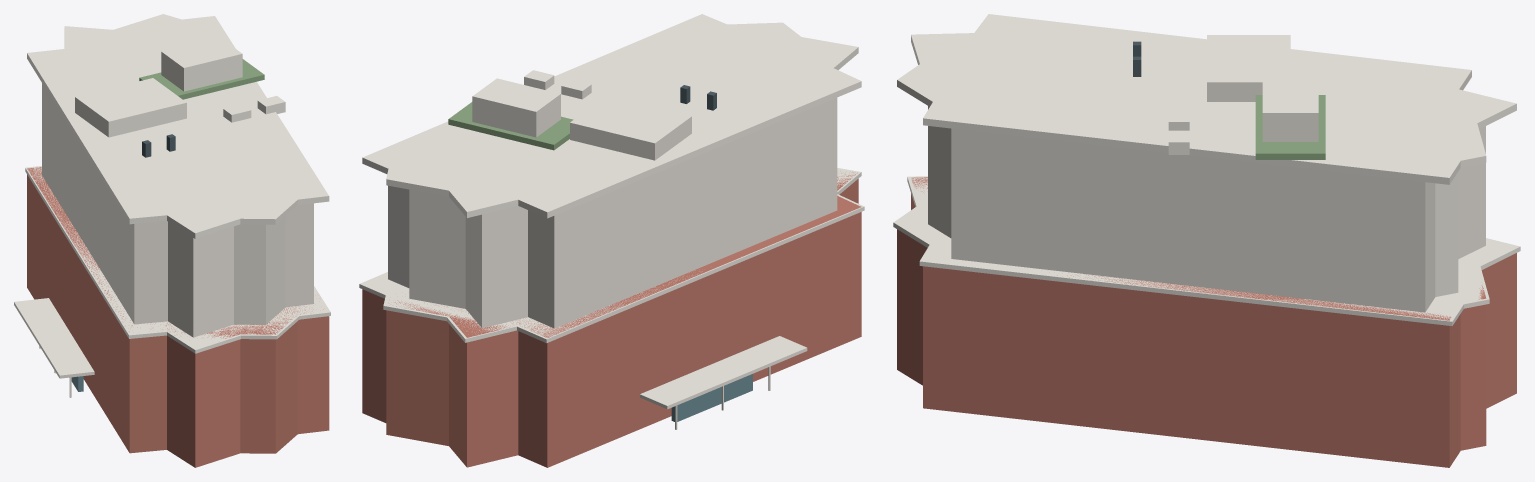
Rendered from chan_tai_ho_building.glb.
3 views of the same model, side by side, from view 1: azimuth 30°, elevation 25°; view 2: azimuth 150°, elevation 25°; view 3: azimuth 270°, elevation 25° (orthographic). The views are drawn at different scales.
Visible parts, largest first — view 1: Chan Tai Ho Building_base, Chan Tai Ho Building_parapet, Chan Tai Ho Building_upper, Chan Tai Ho Building_band, Chan Tai Ho Building_roof_plant, Chan Tai Ho Building_pavilion, Chan Tai Ho Building_canopy, Chan Tai Ho Building_garden, Chan Tai Ho Building_ac_1, Chan Tai Ho Building_ac_0; view 2: Chan Tai Ho Building_base, Chan Tai Ho Building_upper, Chan Tai Ho Building_parapet, Chan Tai Ho Building_band, Chan Tai Ho Building_roof_plant, Chan Tai Ho Building_canopy, Chan Tai Ho Building_pavilion, Chan Tai Ho Building_garden, Chan Tai Ho Building_door; view 3: Chan Tai Ho Building_base, Chan Tai Ho Building_upper, Chan Tai Ho Building_parapet, Chan Tai Ho Building_band, Chan Tai Ho Building_roof_plant, Chan Tai Ho Building_pavilion, Chan Tai Ho Building_garden.
Boxes of the visible parts, x1=… form: Chan Tai Ho Building_base: x1=27, y1=167, x2=329, y2=467; Chan Tai Ho Building_parapet: x1=27, y1=14, x2=329, y2=238; Chan Tai Ho Building_upper: x1=42, y1=83, x2=313, y2=337; Chan Tai Ho Building_band: x1=25, y1=166, x2=330, y2=353; Chan Tai Ho Building_roof_plant: x1=75, y1=78, x2=186, y2=137; Chan Tai Ho Building_pavilion: x1=161, y1=37, x2=242, y2=91; Chan Tai Ho Building_canopy: x1=14, y1=298, x2=94, y2=378; Chan Tai Ho Building_garden: x1=139, y1=59, x2=264, y2=99; Chan Tai Ho Building_ac_1: x1=257, y1=96, x2=285, y2=114; Chan Tai Ho Building_ac_0: x1=223, y1=104, x2=251, y2=122; Chan Tai Ho Building_base: x1=362, y1=172, x2=861, y2=467; Chan Tai Ho Building_upper: x1=388, y1=97, x2=837, y2=328; Chan Tai Ho Building_parapet: x1=362, y1=14, x2=861, y2=218; Chan Tai Ho Building_band: x1=359, y1=168, x2=864, y2=343; Chan Tai Ho Building_roof_plant: x1=570, y1=95, x2=691, y2=160; Chan Tai Ho Building_canopy: x1=640, y1=336, x2=807, y2=409; Chan Tai Ho Building_pavilion: x1=472, y1=78, x2=560, y2=137; Chan Tai Ho Building_garden: x1=448, y1=102, x2=573, y2=150; Chan Tai Ho Building_door: x1=671, y1=374, x2=752, y2=421; Chan Tai Ho Building_base: x1=897, y1=177, x2=1516, y2=467; Chan Tai Ho Building_upper: x1=928, y1=106, x2=1485, y2=312; Chan Tai Ho Building_parapet: x1=897, y1=14, x2=1516, y2=184; Chan Tai Ho Building_band: x1=893, y1=176, x2=1520, y2=325; Chan Tai Ho Building_roof_plant: x1=1207, y1=35, x2=1290, y2=101; Chan Tai Ho Building_pavilion: x1=1262, y1=77, x2=1318, y2=141; Chan Tai Ho Building_garden: x1=1255, y1=95, x2=1325, y2=159.
Bounding box in the file's own units: 29.02 × 25.8 × 44.98.
